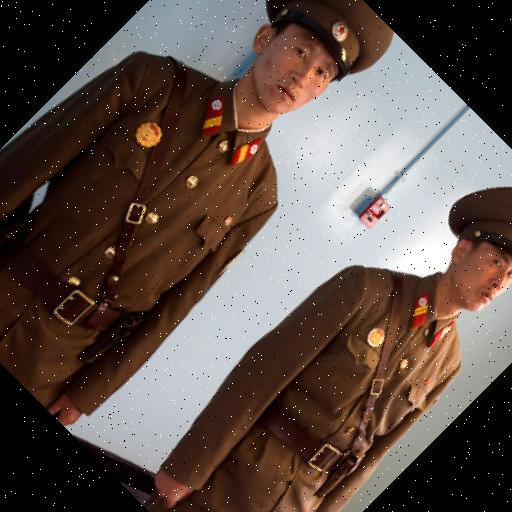north army: (5, 1, 293, 449), (236, 165, 512, 512)
